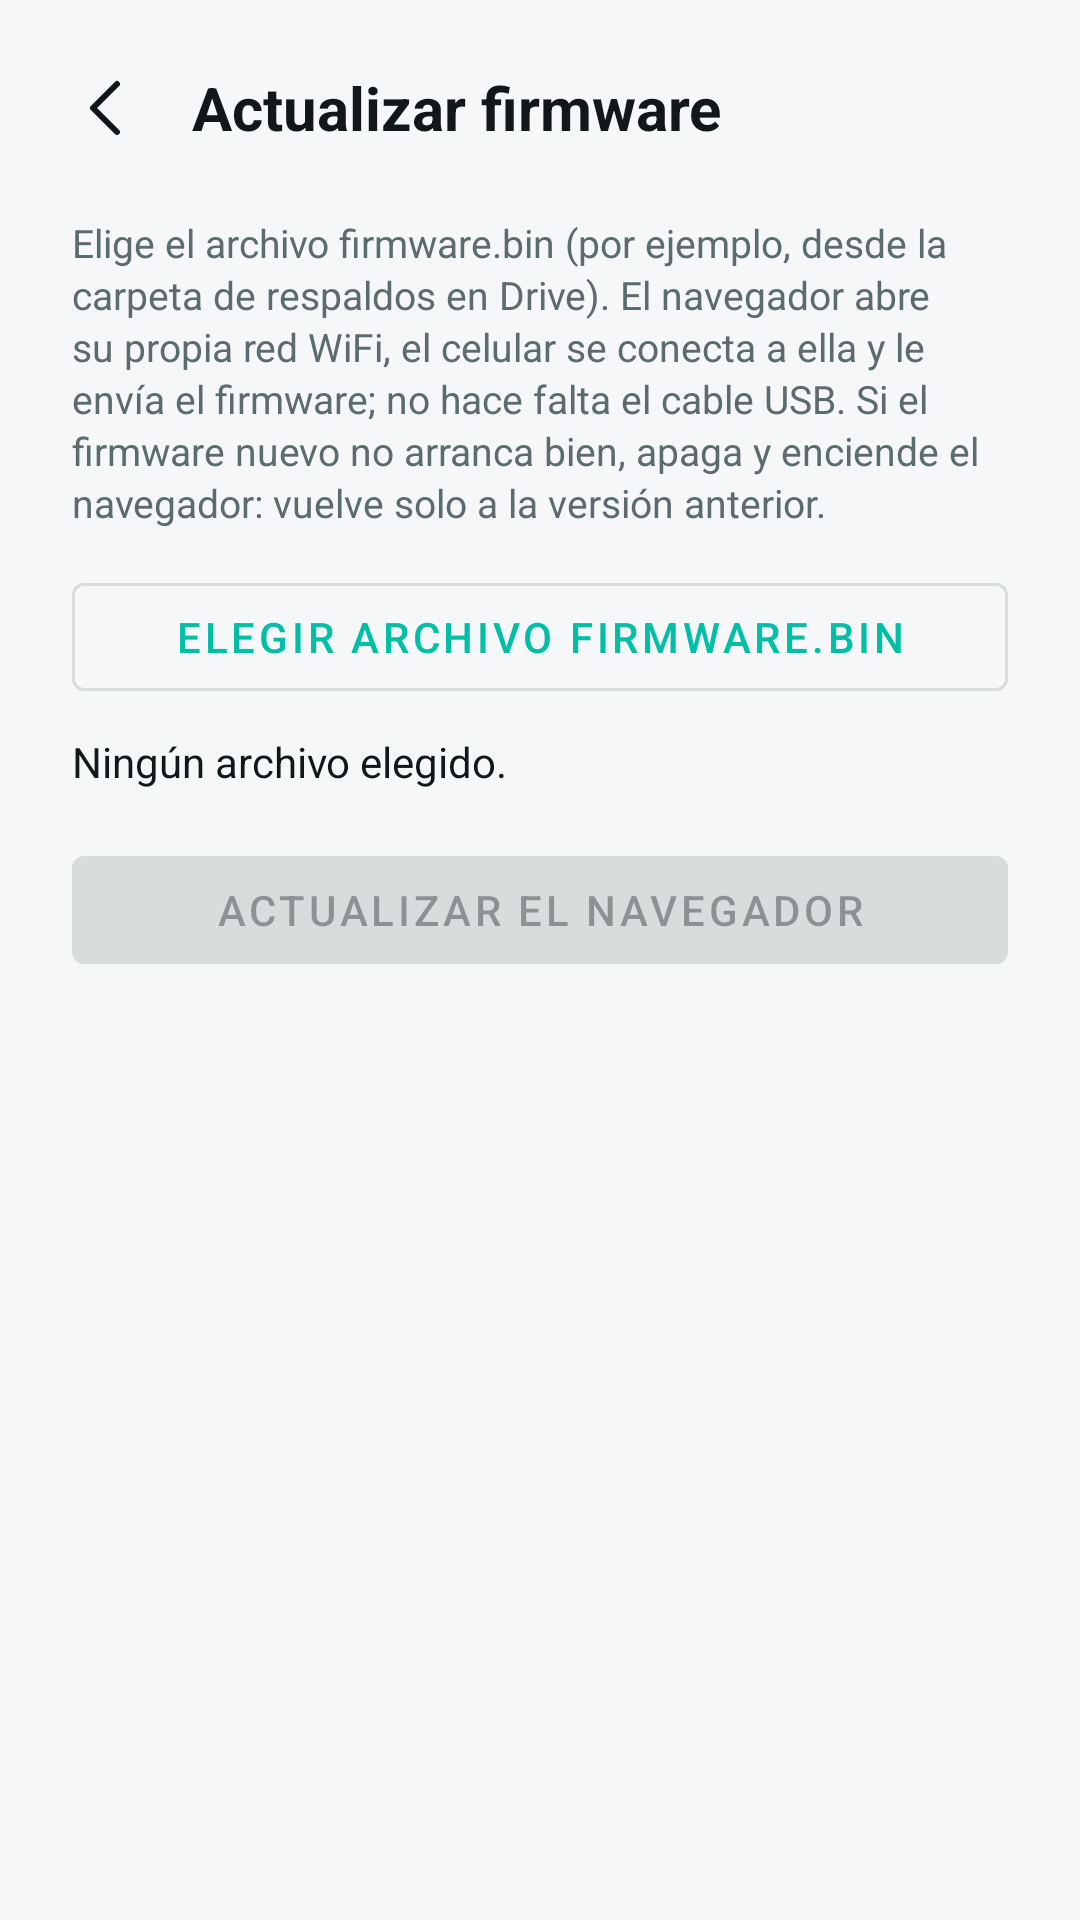

Named icons in this screenshot (1080w x 1920h) and their bounding boxes, {"x1": x1, "y1": y1, "x2": x2, "y2": y2}:
Cancelar: {"x1": 90, "y1": 80, "x2": 120, "y2": 135}
